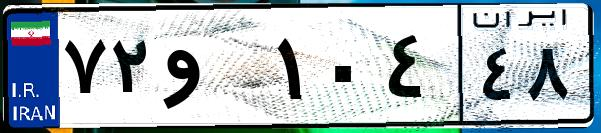0: (330, 28, 385, 110)
1: (270, 28, 330, 110)
2: (110, 28, 158, 98)
4: (385, 28, 445, 110), (475, 38, 525, 113)
7: (57, 26, 110, 100)
8: (525, 38, 570, 115)
و: (158, 20, 270, 120)
